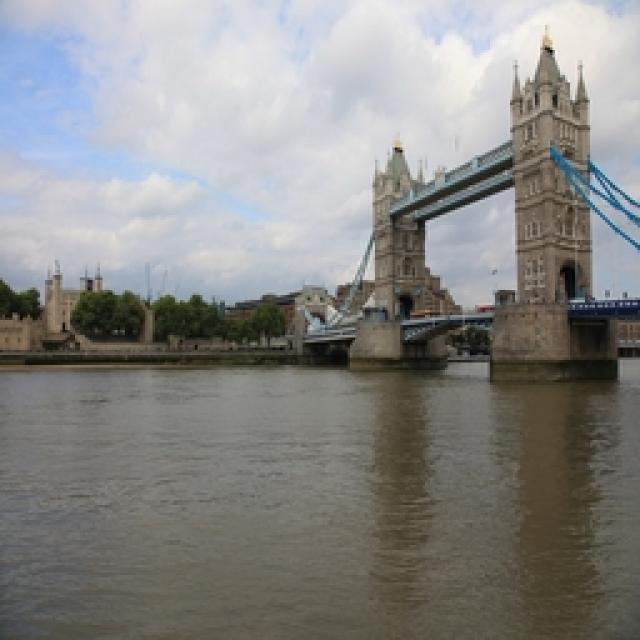Abbey: (250, 43, 636, 402)
